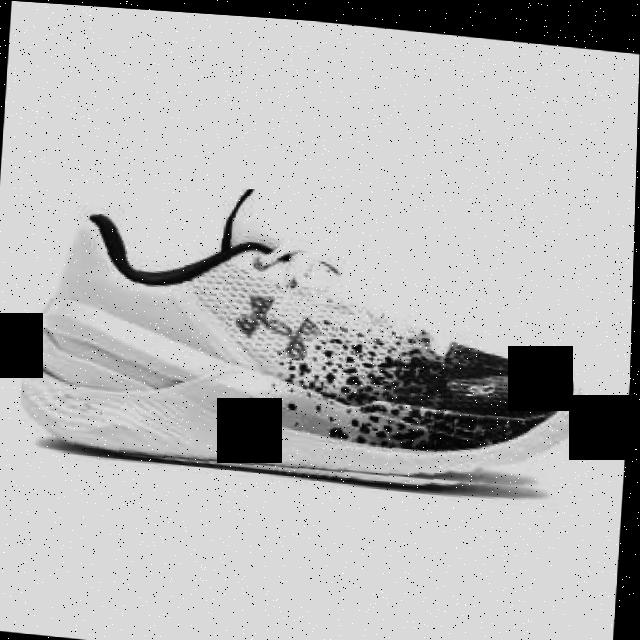shoe: (20, 166, 604, 496)
